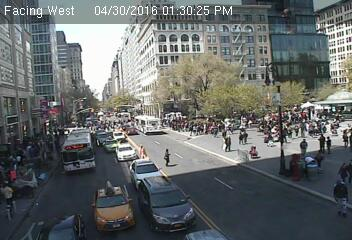neg: (219, 175, 243, 206), (187, 181, 209, 210), (107, 141, 122, 160), (153, 194, 167, 213), (84, 145, 97, 163), (117, 183, 130, 200)
pos: (323, 177, 351, 218), (158, 144, 174, 166), (134, 141, 150, 161), (314, 132, 328, 151), (297, 137, 310, 154), (223, 133, 235, 149), (236, 128, 248, 144)
